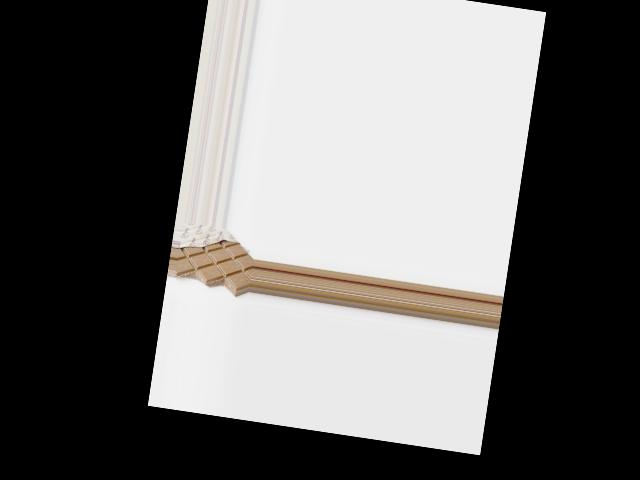chocolate: (173, 222, 256, 292)
